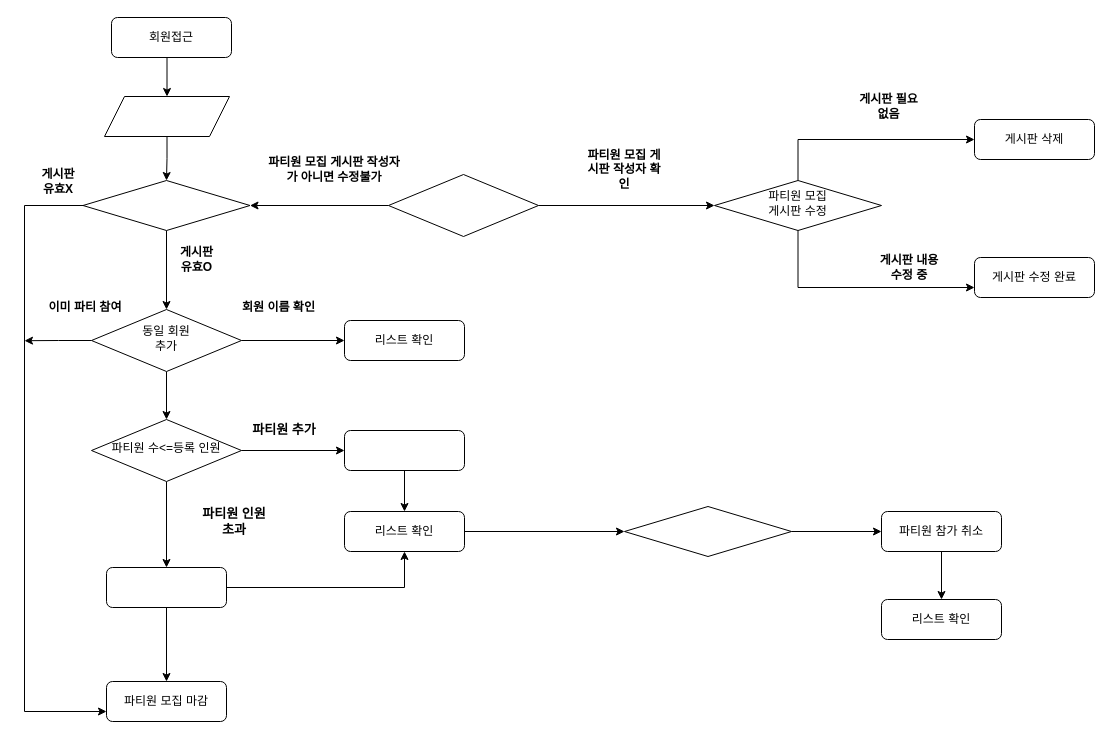
Some shapes in this 1112 by 739 pixel diagram are drawn without their labels. The shapes that lost their labels are listed below. From the top down, each one's centre as x and y in pixels, then its label:
At point (167, 116): "파티원 모집 게시판 생성".
At point (166, 205): "파티원 모집 게시판 유효".
At point (463, 205): "작성자 로그인".
At point (404, 450): "파티 참가 성공".
At point (708, 531): "파티원 참가 수정".
At point (166, 587): "파티 참가 실패".
